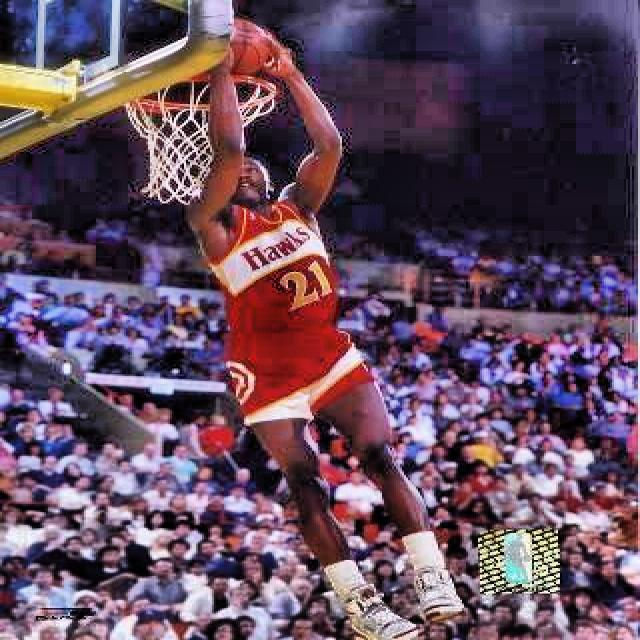rim: (124, 75, 274, 202)
